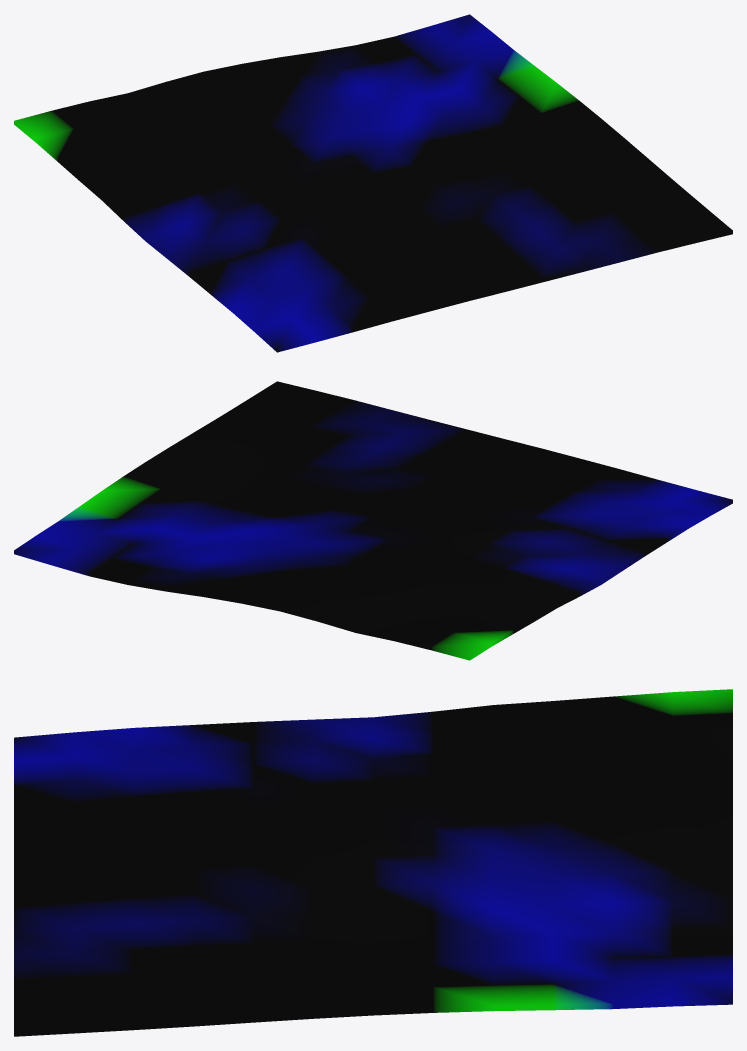
The model's file is coast_16_3.glb.
The picture shows the model from 3 angles, top to bottom: view 1: azimuth 30°, elevation 25°; view 2: azimuth 150°, elevation 25°; view 3: azimuth 270°, elevation 25°; orthographic projection. The views are drawn at different scales.
Parts seen in each view (by area): view 1: terrain; view 2: terrain; view 3: terrain.
Boxes of the visible parts, x1=… form: terrain: x1=14, y1=14, x2=732, y2=352; terrain: x1=14, y1=381, x2=732, y2=660; terrain: x1=14, y1=689, x2=732, y2=1036.
Size of the model in its own units: 192 by 16.93 by 192.
